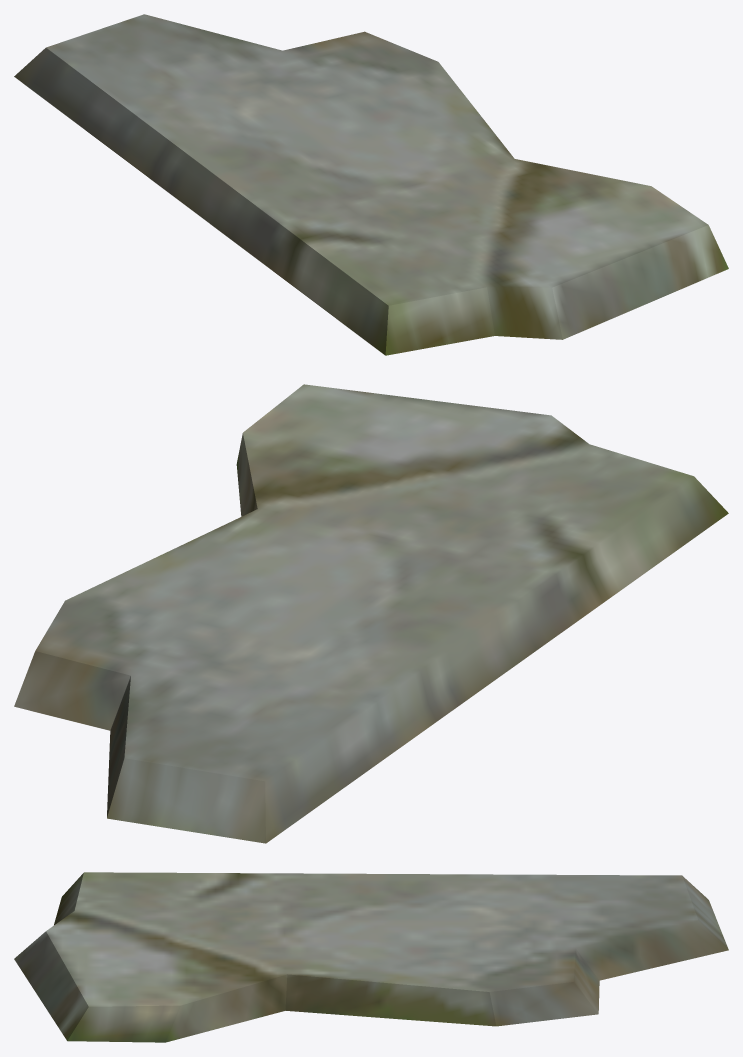
Rendered from 1001_Item_shidimian_1.FBX.
The picture shows the model from 3 angles, top to bottom: view 1: azimuth 30°, elevation 25°; view 2: azimuth 150°, elevation 25°; view 3: azimuth 270°, elevation 25°; orthographic projection. The views are drawn at different scales.
Visible parts, largest first — view 1: 1001_Item_shidimian_1; view 2: 1001_Item_shidimian_1; view 3: 1001_Item_shidimian_1.
Part boxes in pixels (x1=…): 1001_Item_shidimian_1: x1=14, y1=14, x2=728, y2=355; 1001_Item_shidimian_1: x1=14, y1=384, x2=728, y2=843; 1001_Item_shidimian_1: x1=14, y1=872, x2=728, y2=1042.
Bounding box in the file's own units: 71.1 × 147 × 7.09.
Materials: 1 (1 with a texture image).
